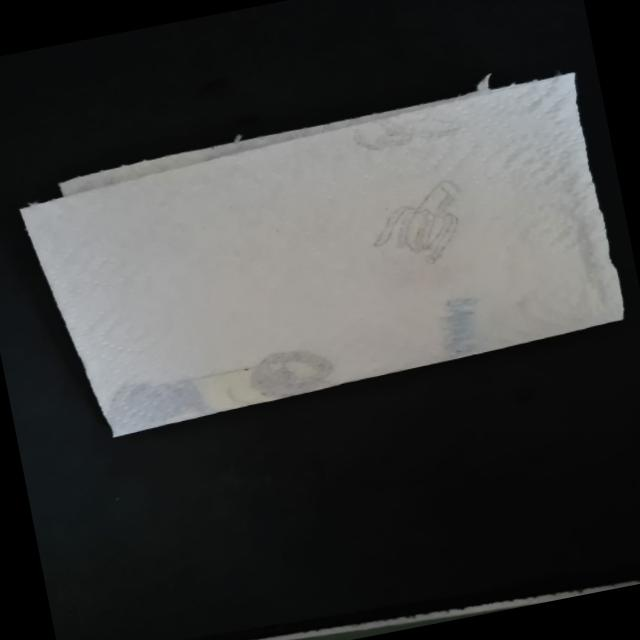organic waste: (14, 66, 629, 446)
